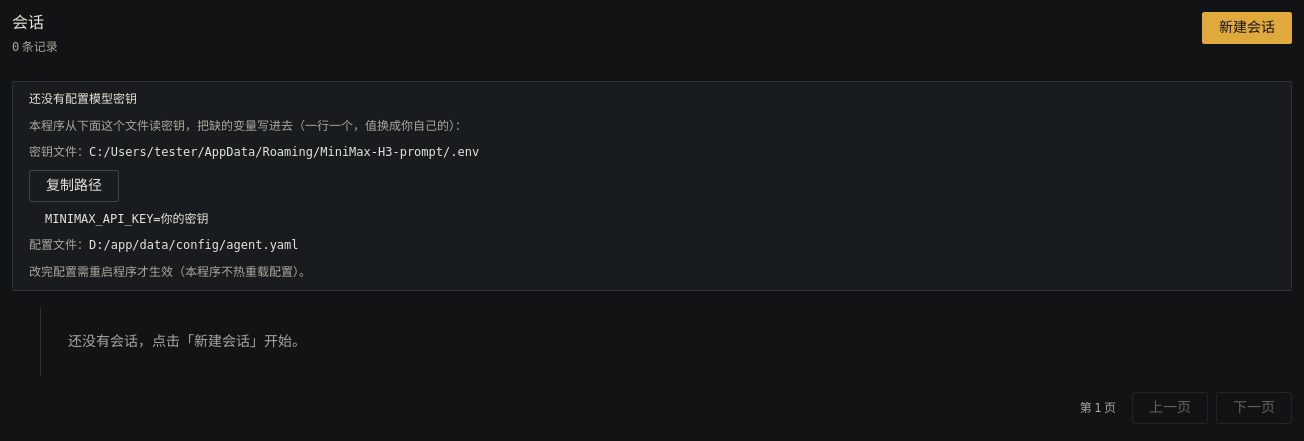
Test: SessionsListView 缺密钥提示（#238） › 「复制路径」把密钥文件绝对路径写进剪贴板
This screenshot has width=1304, height=441.
Click the button "复制路径" at (74, 186), box left=29, top=170, right=119, bottom=202
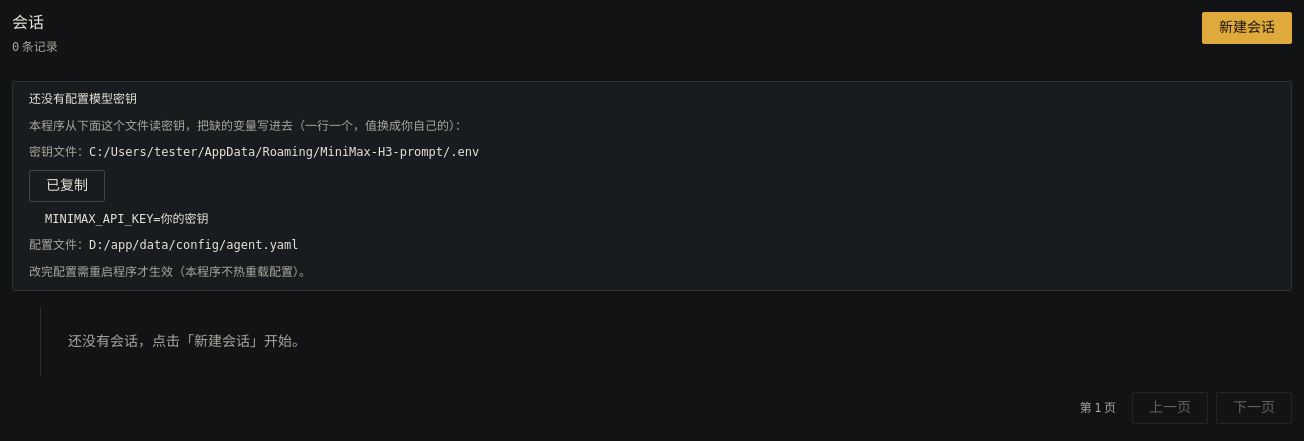
expect the element with class "config-hint" shows "已复制": met, box left=29, top=170, right=105, bottom=202
